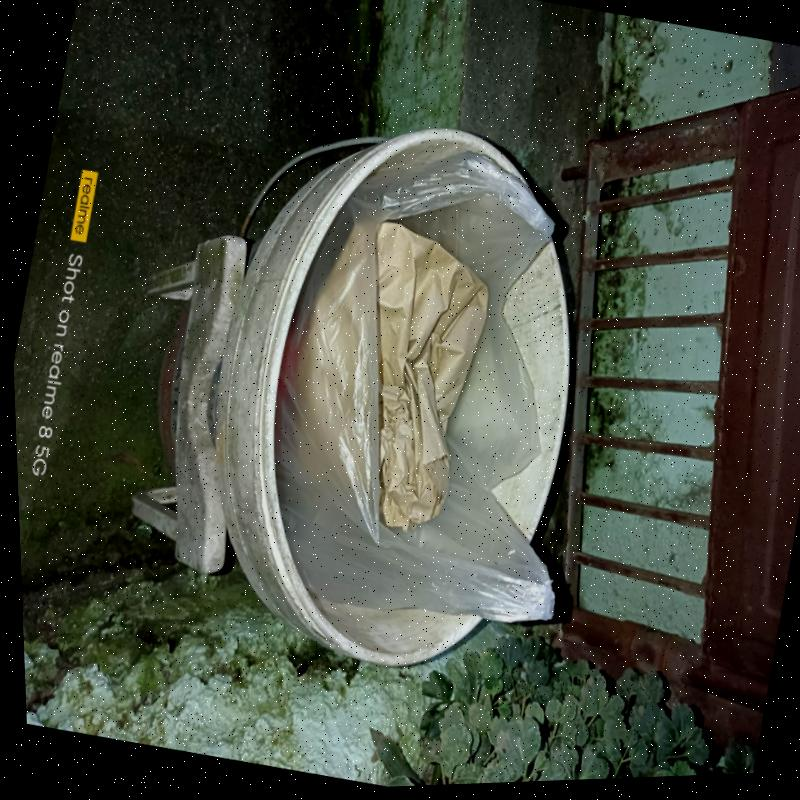paper: (376, 221, 487, 532)
plastic bag: (271, 157, 554, 623)
